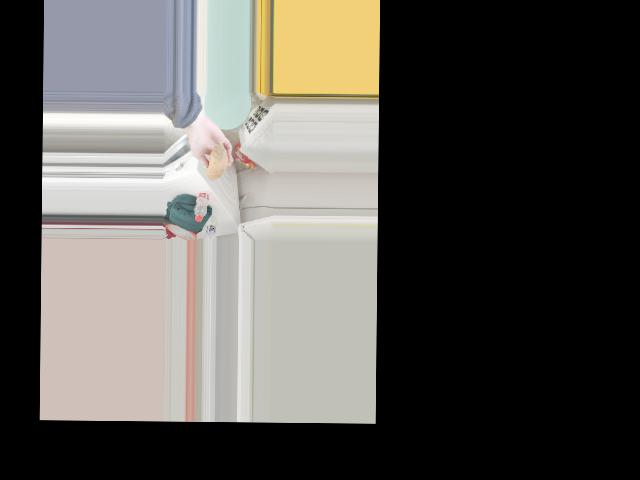sweet_potato: (208, 140, 226, 181)
